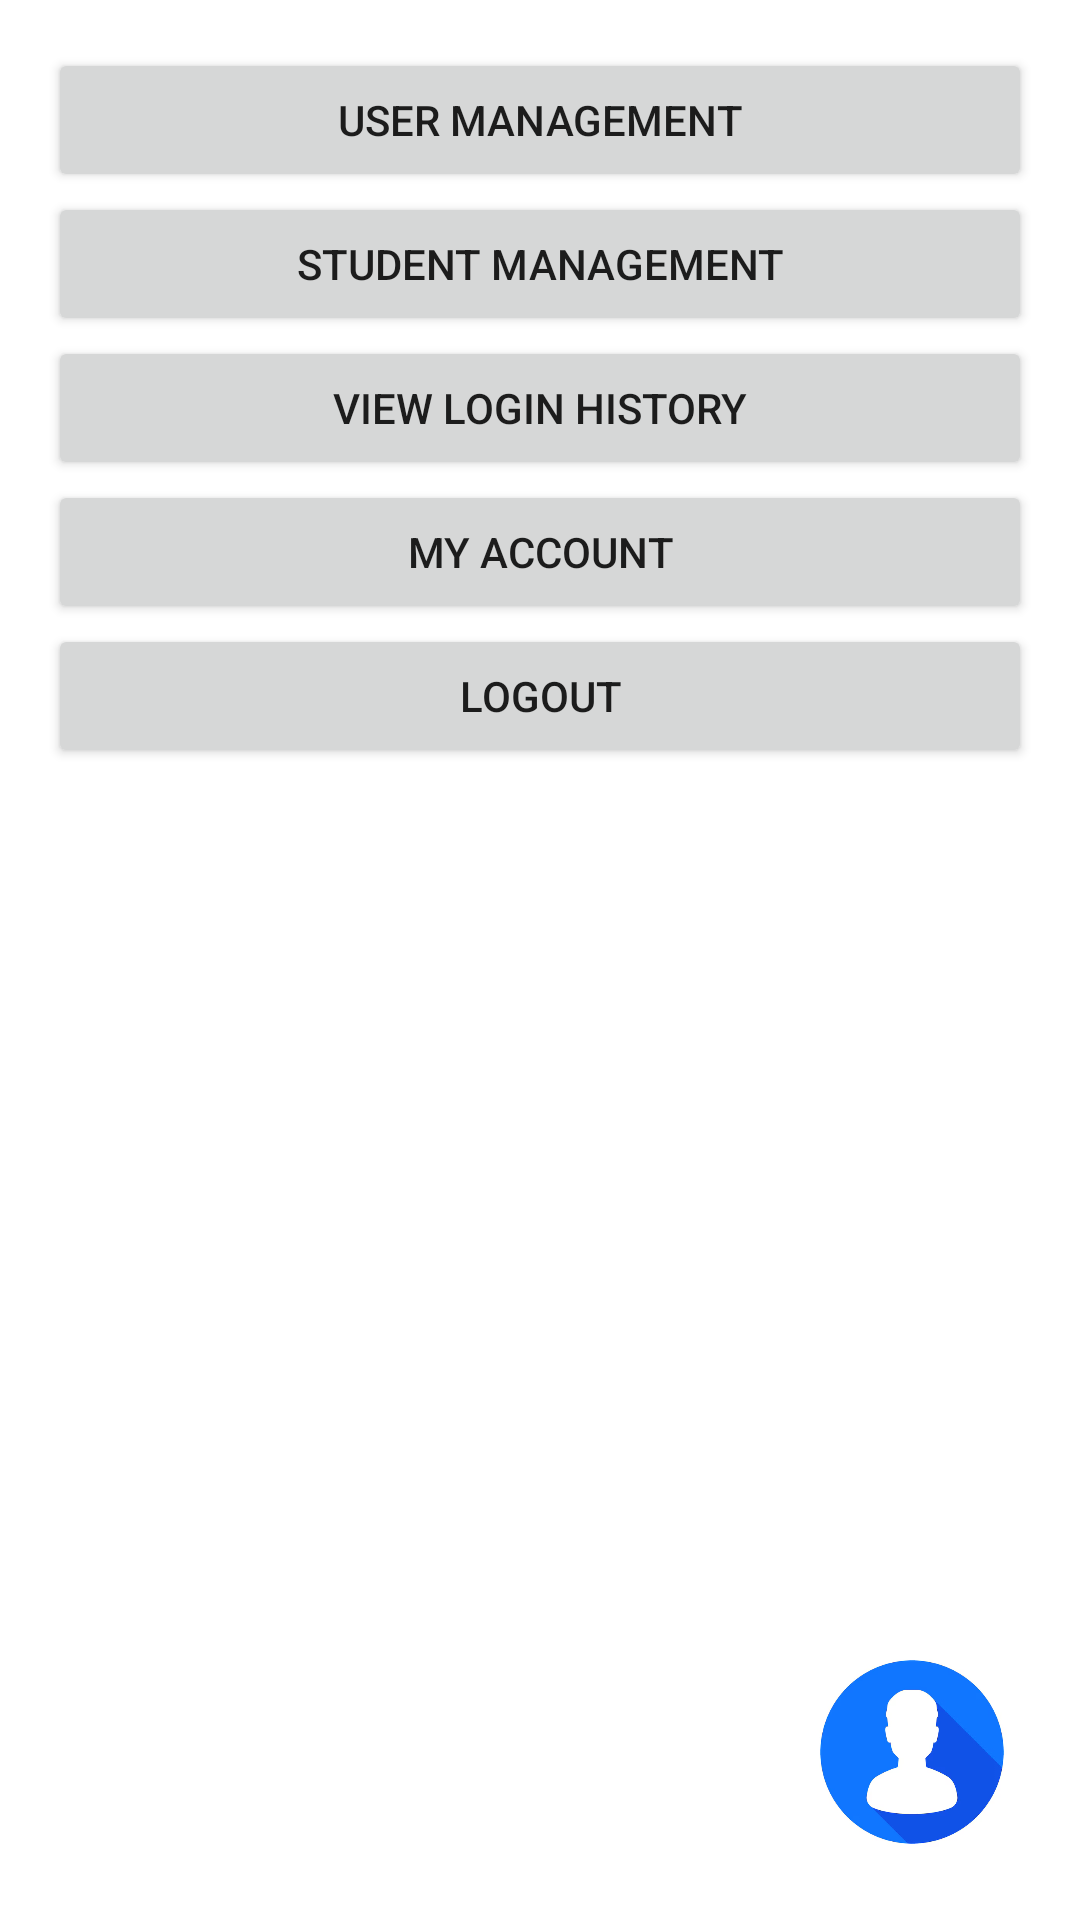

Icon click points for this 1080x1920 phone screenshot, format [x,y]:
Profile Image: [912,1752]
